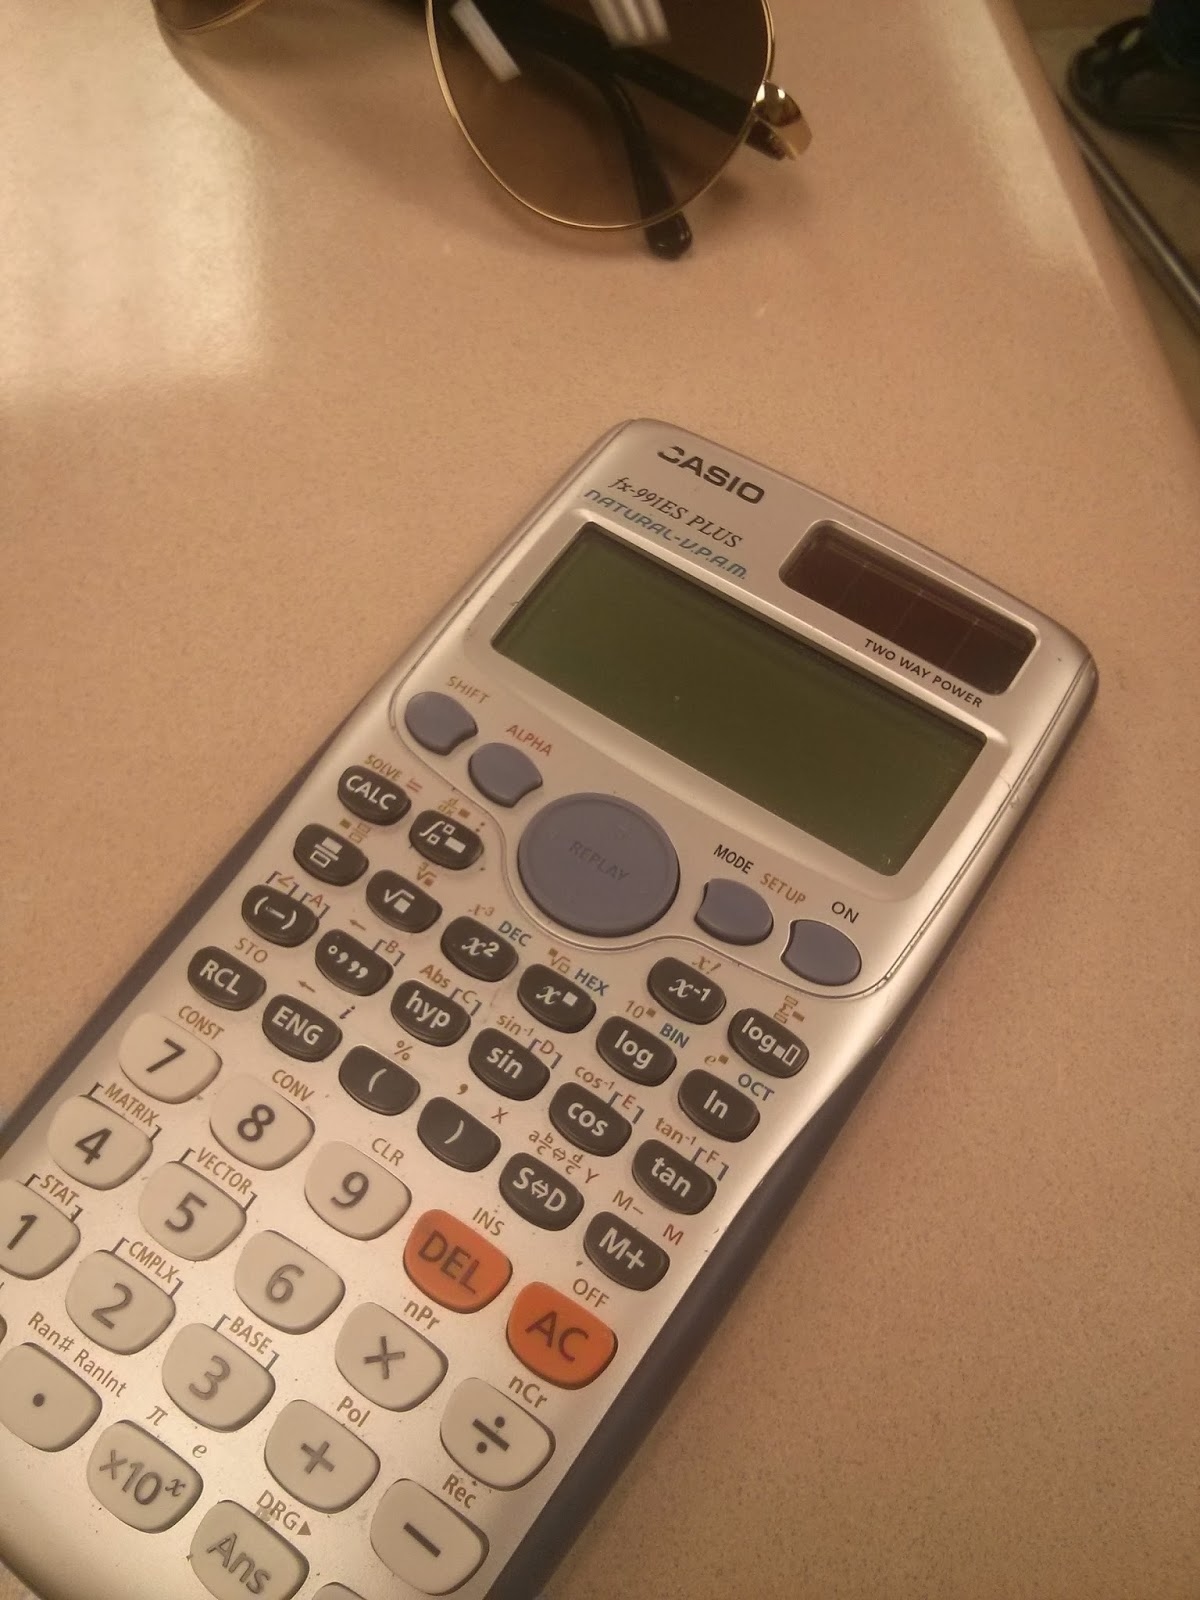Calculator: (1, 404, 1107, 1600)
